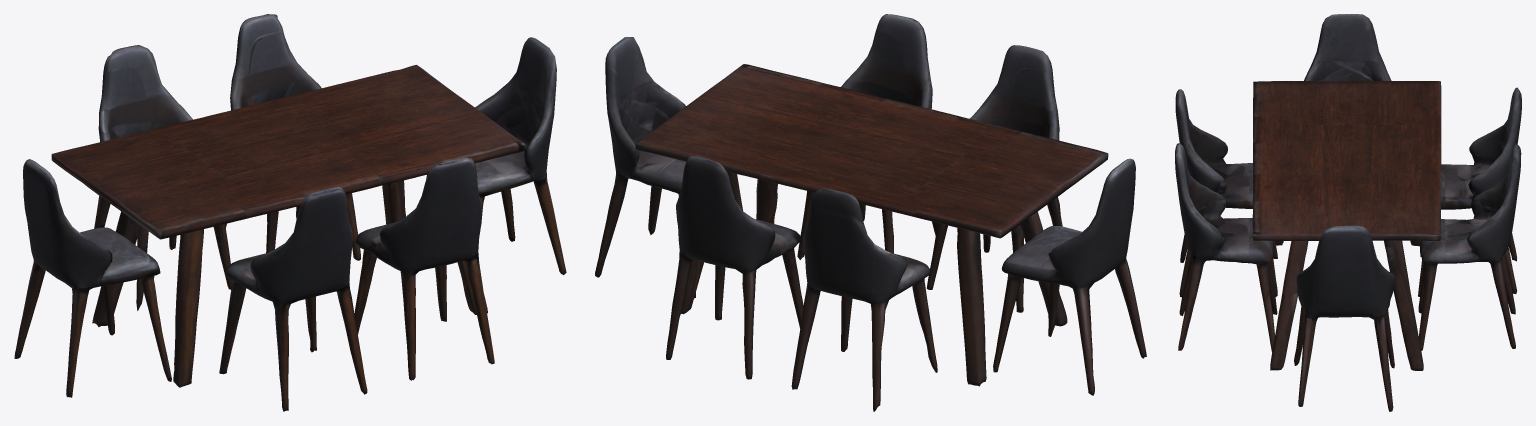
Rendered from Meshy_AI_furniture__0518232134_texture.fbx.
The picture shows the model from 3 angles, left to right: view 1: azimuth 30°, elevation 25°; view 2: azimuth 150°, elevation 25°; view 3: azimuth 270°, elevation 25°; orthographic projection. The views are drawn at different scales.
Visible parts, largest first — view 1: Mesh1_Mesh1.042; view 2: Mesh1_Mesh1.042; view 3: Mesh1_Mesh1.042.
Part boxes in pixels (x1,y1,x2,y2): Mesh1_Mesh1.042: (14, 14, 566, 411); Mesh1_Mesh1.042: (595, 14, 1146, 411); Mesh1_Mesh1.042: (1175, 14, 1521, 411).
Bounding box in the file's own units: 200 × 82.42 × 136.
1 material, 1 textured.
